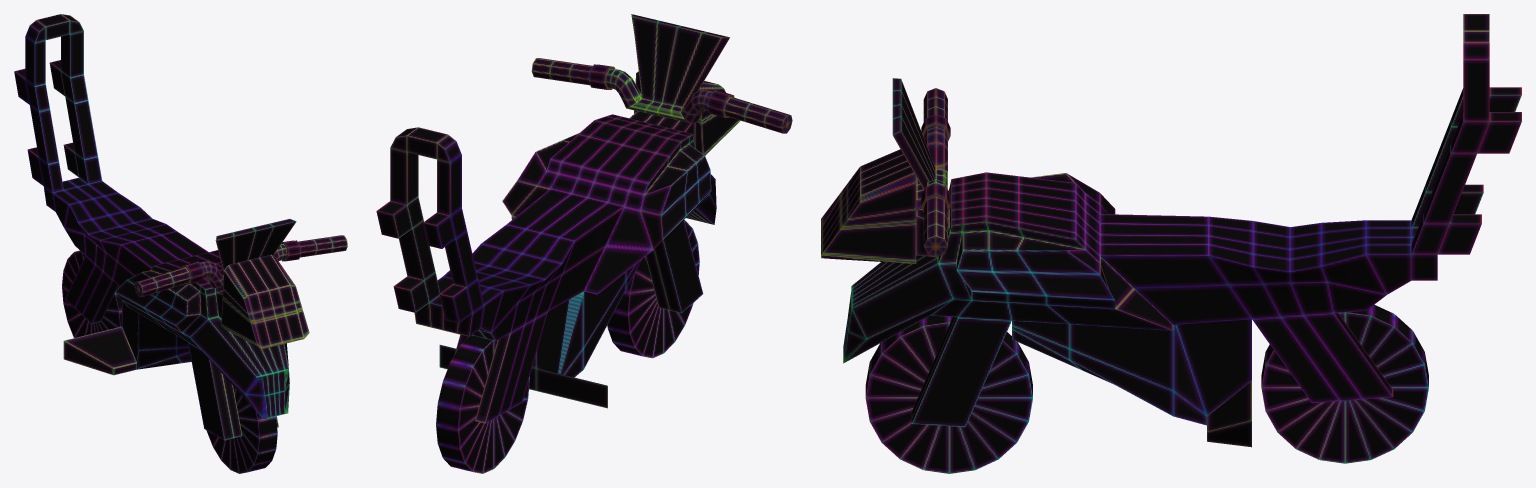
The model's file is BikeModel.fbx.
3 views of the same model, side by side, from view 1: azimuth 30°, elevation 25°; view 2: azimuth 150°, elevation 25°; view 3: azimuth 270°, elevation 25° (orthographic). The views are drawn at different scales.
Visible parts, largest first — view 1: pCube4, pCylinder2, pCylinder3; view 2: pCube4, pCylinder3, pCylinder2; view 3: pCube4, pCylinder2, pCylinder3.
Part boxes in pixels (x1,y1,x2,y2): pCube4: (14,14,347,440); pCylinder2: (206,386,277,473); pCylinder3: (62,250,121,337); pCube4: (376,14,792,423); pCylinder3: (436,335,529,473); pCylinder2: (607,220,699,358); pCube4: (821,14,1521,447); pCylinder2: (865,315,1032,473); pCylinder3: (1261,304,1428,463).
Bounding box in the file's own units: 81.2 × 118 × 168.
